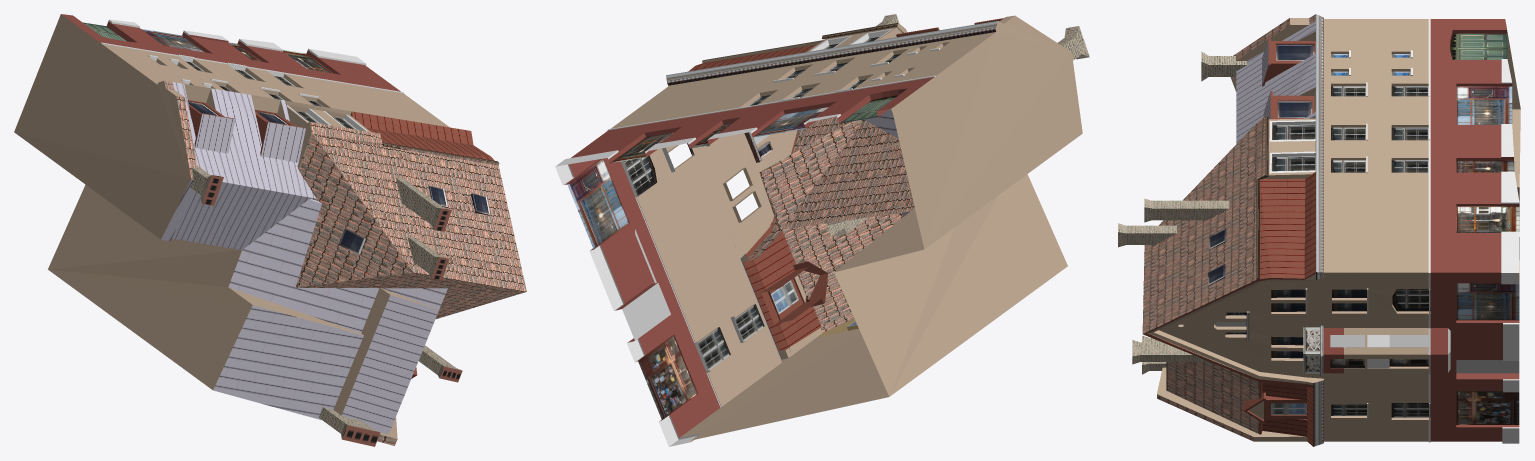
Rendered from Vene_7.obj.
The picture shows the model from 3 angles, left to right: view 1: azimuth 30°, elevation 25°; view 2: azimuth 150°, elevation 25°; view 3: azimuth 270°, elevation 25°; orthographic projection. The views are drawn at different scales.
Parts seen in each view (by area): view 1: polySurface3; view 2: polySurface3; view 3: polySurface3.
Part boxes in pixels (box(x1,y1,x2,y2)): polySurface3: box(14, 14, 526, 446); polySurface3: box(555, 14, 1089, 446); polySurface3: box(1118, 14, 1520, 446).
Size of the model in its own units: 22.1 by 22.04 by 23.6.
